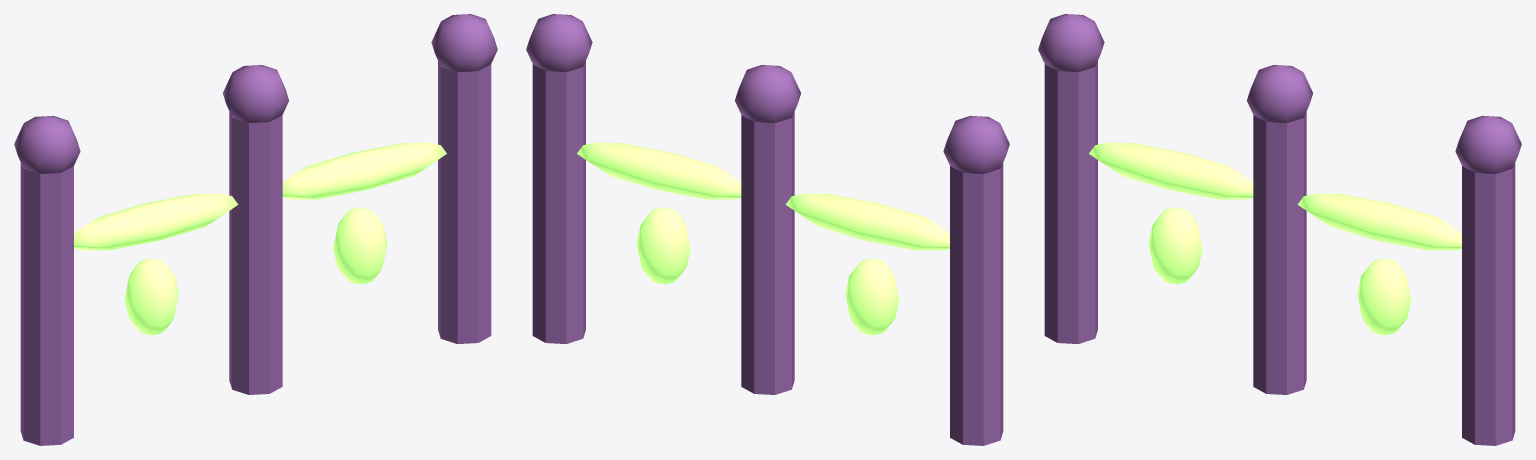
The model's file is SlimeFence.fbx.
3 renders of one model, left to right at view 1: azimuth 30°, elevation 25°; view 2: azimuth 150°, elevation 25°; view 3: azimuth 330°, elevation 25°, orthographic.
Parts seen in each view (by area): view 1: SlimeFence; view 2: SlimeFence; view 3: SlimeFence.
Part boxes in pixels (left/top/right/bottom): SlimeFence: left=14, top=14, right=497, bottom=445; SlimeFence: left=526, top=14, right=1009, bottom=445; SlimeFence: left=1038, top=14, right=1521, bottom=445.
Bounding box in the file's own units: 0.8 × 0.51 × 0.1.
